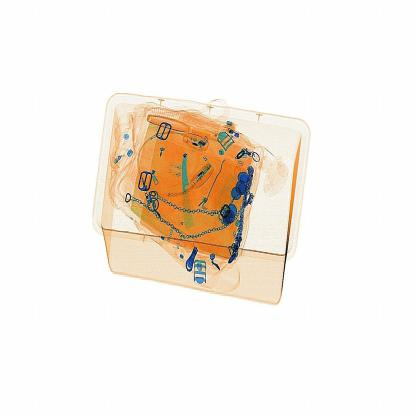wrench: (170, 138, 195, 247)
